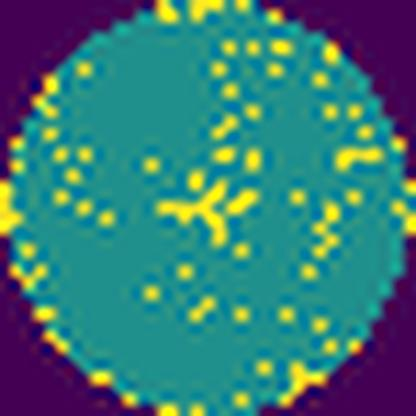Center: (160, 178, 261, 245)
